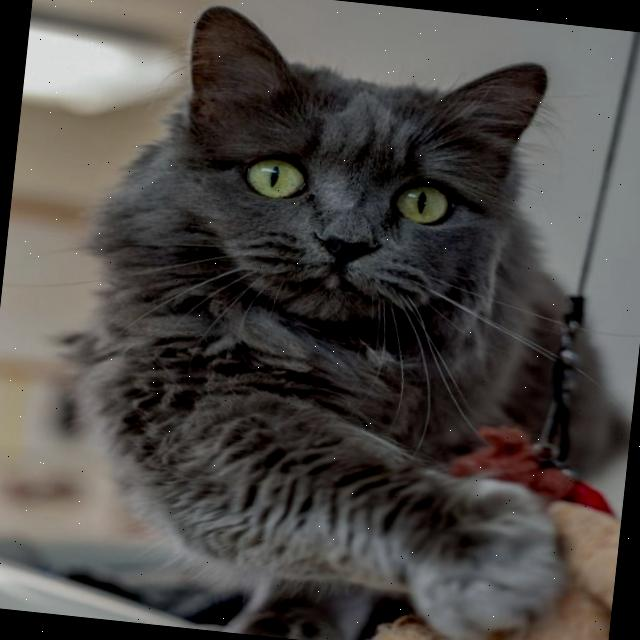domestic_long_hair_cat: (110, 0, 580, 387)
